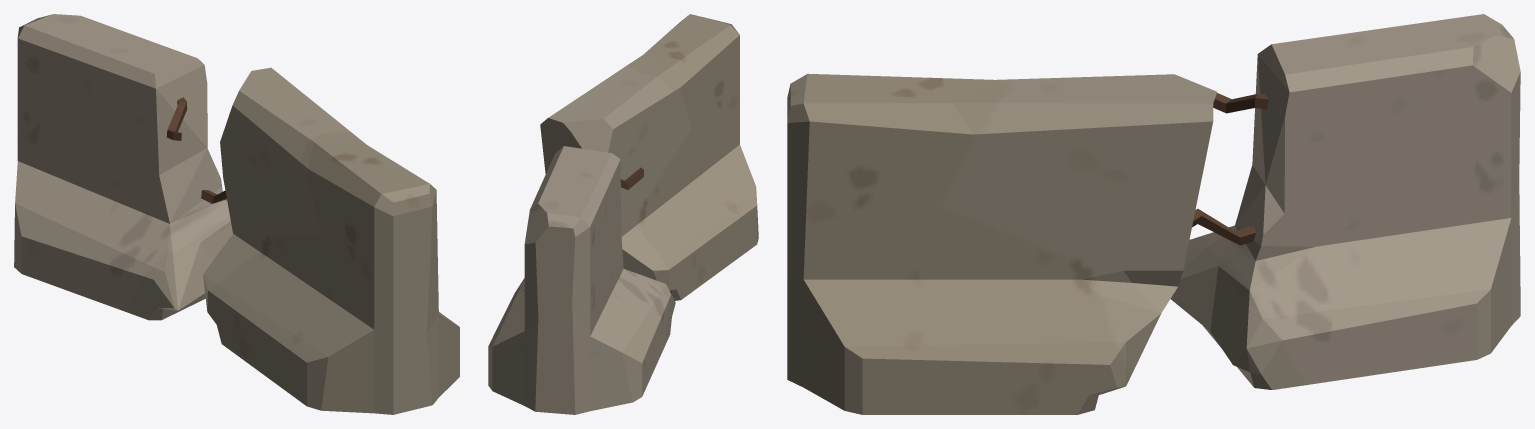
Rendered from SM_Prop_Barrier_05.glb.
3 views of the same model, side by side, from view 1: azimuth 30°, elevation 25°; view 2: azimuth 150°, elevation 25°; view 3: azimuth 270°, elevation 25° (orthographic). The views are drawn at different scales.
Visible parts, largest first — view 1: SM_Prop_Barrier_05; view 2: SM_Prop_Barrier_05; view 3: SM_Prop_Barrier_05.
Boxes of the visible parts, x1,y1,x2,y2 form: SM_Prop_Barrier_05: (14, 14, 459, 414); SM_Prop_Barrier_05: (488, 14, 758, 414); SM_Prop_Barrier_05: (787, 14, 1520, 414).
Bounding box in the file's own units: 1.06 × 0.9544 × 2.28.
1 material, 1 textured.
